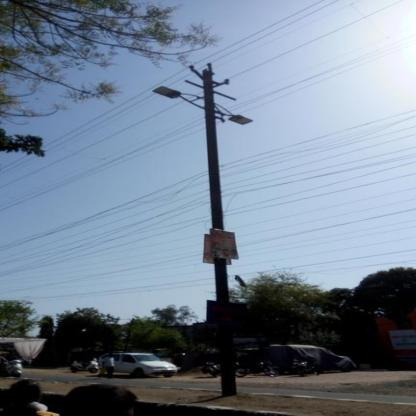Electrical Pole: (156, 59, 263, 398)
